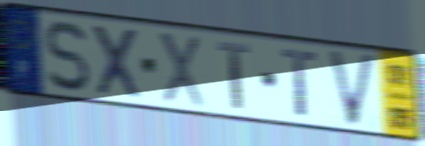S: (44, 19, 92, 95)
T: (279, 46, 320, 120), (215, 38, 252, 112)
V: (325, 47, 379, 130)
X: (88, 21, 145, 103), (156, 29, 207, 110)
